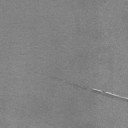finishing roll printing: (64, 81, 128, 101)
